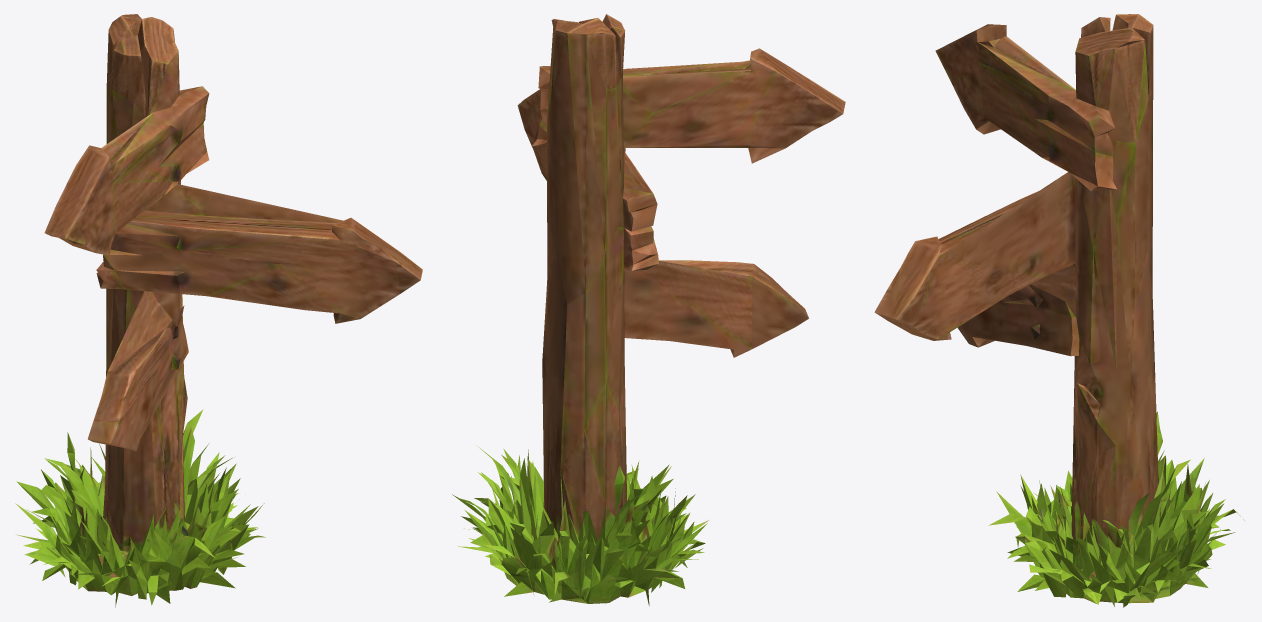
The model's file is signpost.glb.
The picture shows the model from 3 angles, left to right: view 1: azimuth 30°, elevation 25°; view 2: azimuth 150°, elevation 25°; view 3: azimuth 270°, elevation 25°; orthographic projection. The views are drawn at different scales.
Bounding box in the file's own units: 1.27 × 1.89 × 1.16.
Materials: 1 (1 with a texture image).
